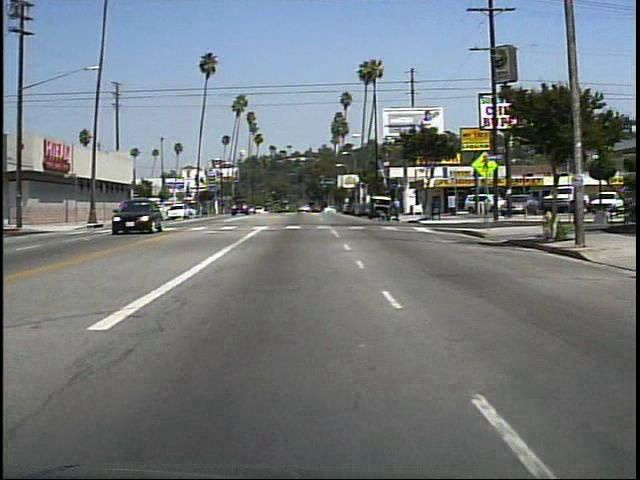person: (391, 194, 406, 225), (376, 207, 392, 226), (122, 198, 123, 220)
